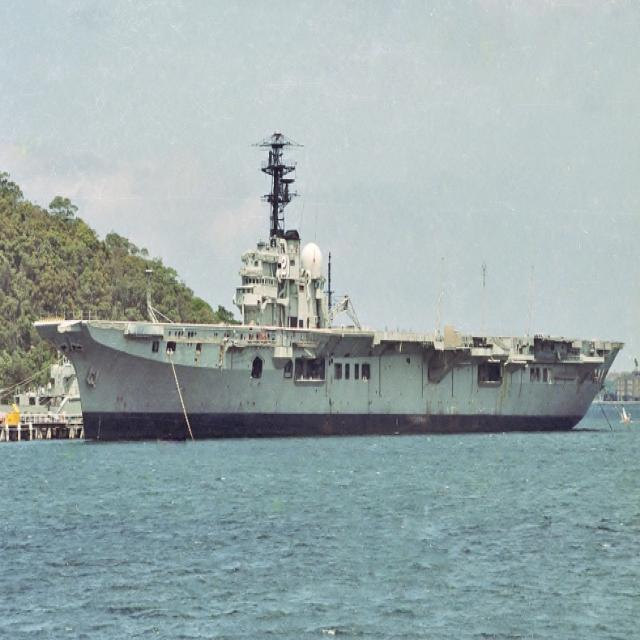Portanaves: (30, 128, 629, 449)
